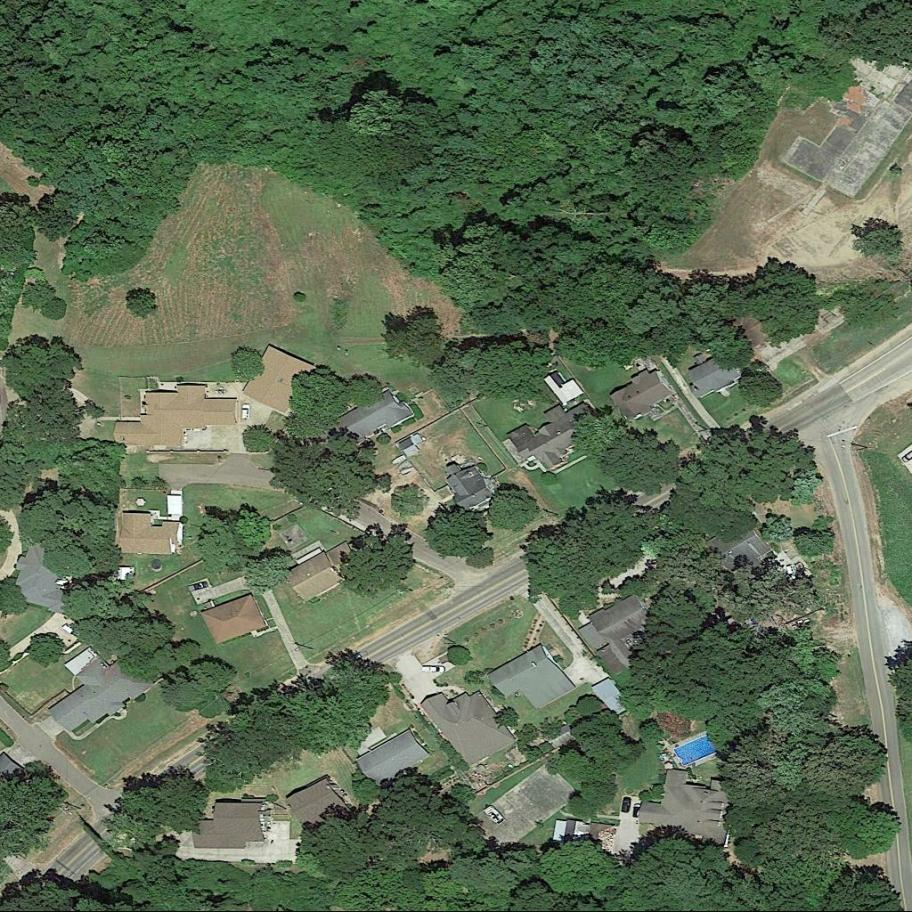small-vehicle: (189, 580, 210, 593), (420, 665, 446, 674), (621, 796, 632, 813), (632, 803, 642, 818), (241, 404, 249, 420)
